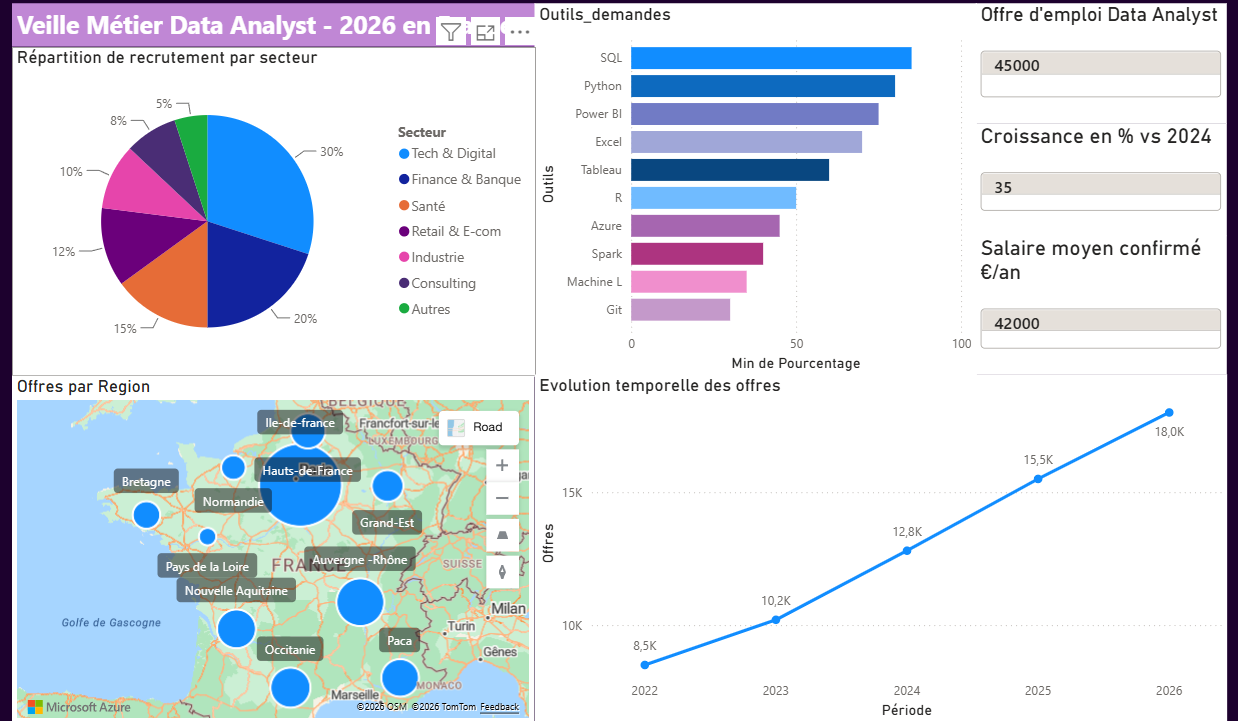

This screenshot's page, from the dashboard's own definition file:
{"tool":"powerbi","page":{"name":"Veille métiers","canvas":[1280,720],"ordinal":1},"visuals":[{"type":"textbox","box":[39.1,15.9,512.4,42.8],"z":0},{"type":"cardVisual","title":"Offre d''emploi Data Analyst","fields":{"Rows":["KPI_offres.Valeur"]},"box":[982.4,16,245.6,117.5],"z":1000},{"type":"cardVisual","title":"Croissance en % vs 2024","fields":{"Rows":["KPI_croissance.Valeur"]},"box":[982.4,133.5,245.6,110.3],"z":2000},{"type":"cardVisual","title":"Salaire moyen confirmé €/an","fields":{"Rows":["KPI_salaire.Valeur"]},"box":[981.9,243.3,245.8,135.7],"z":3000},{"type":"clusteredBarChart","title":"Outils_demandes","fields":{"Category":["Outils_demandes.Outils"],"Y":["Min(Outils_demandes.Pourcentage)"]},"box":[550,16,432.5,364.9],"z":4000},{"type":"pieChart","title":"Répartition de recrutement par secteur","fields":{"Category":["Secteur_recrutement.Secteur"],"Y":["Sum(Secteur_recrutement.Pourcentage)"]},"box":[39.2,58.7,512.6,322.1],"z":5000},{"type":"azureMap","title":"Offres par Region","fields":{"Category":["Offres_Region.Region"],"Size":["Sum(Offres_Region.Offres)"]},"box":[39.2,380.9,510.8,339.9],"z":6000},{"type":"lineChart","title":"Evolution temporelle des offres","fields":{"Y":["Min(Evolution_offres.Offres)"],"Category":["Evolution_offres.Période"]},"box":[550.3,379.1,677.4,341.2],"z":7000}]}

Visuals, with their boxes on the page's 1280x720 design canvas (x1, y1, x2, y2). These are canvas units, not pixel positions in the 1238x721 screenshot, which may show the page scaled, cropped or inside an application window:
textbox: [39, 16, 552, 59]
"Offre d''emploi Data Analyst" cardVisual: [982, 16, 1228, 134]
"Croissance en % vs 2024" cardVisual: [982, 134, 1228, 244]
"Salaire moyen confirmé €/an" cardVisual: [982, 243, 1228, 379]
"Outils_demandes" clusteredBarChart: [550, 16, 982, 381]
"Répartition de recrutement par secteur" pieChart: [39, 59, 552, 381]
"Offres par Region" azureMap: [39, 381, 550, 721]
"Evolution temporelle des offres" lineChart: [550, 379, 1228, 720]
